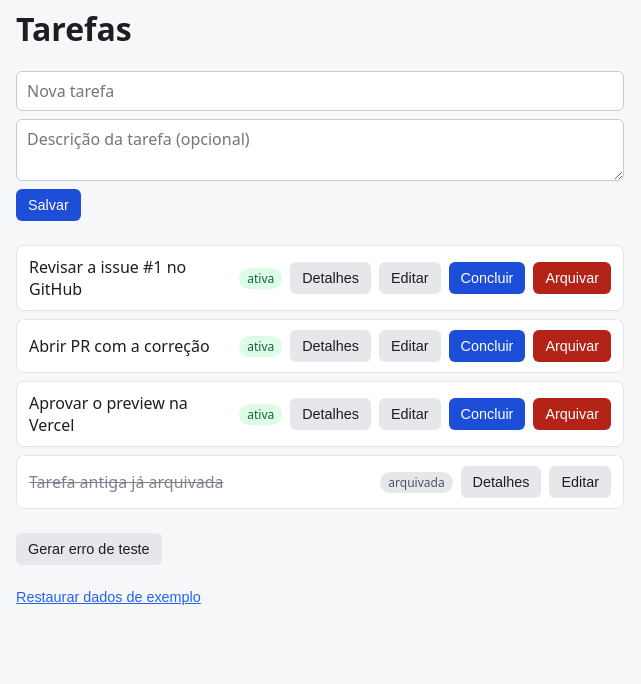
Test: Page › cria uma única tarefa com dois cliques rápidos em Salvar
Type "Tarefa única" into the field named "Título da tarefa" at (320, 91), box left=16, top=71, right=624, bottom=111
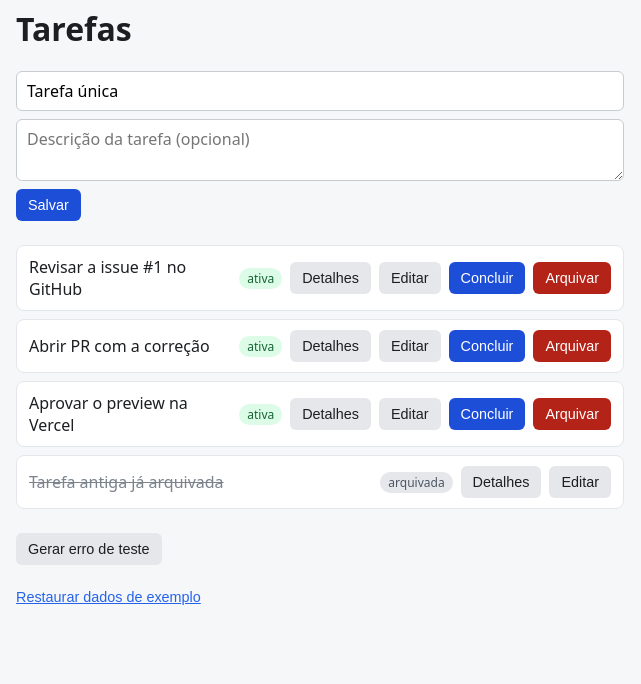
Click the button "Salvar" at (48, 205), box left=16, top=189, right=81, bottom=221
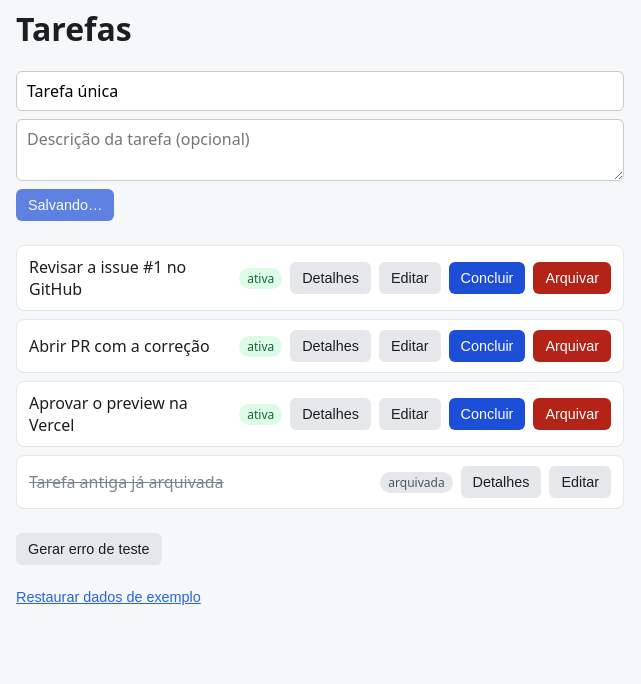
Click the button named "Salvar" at (65, 205), box left=16, top=189, right=114, bottom=221
Wait 1000 ms
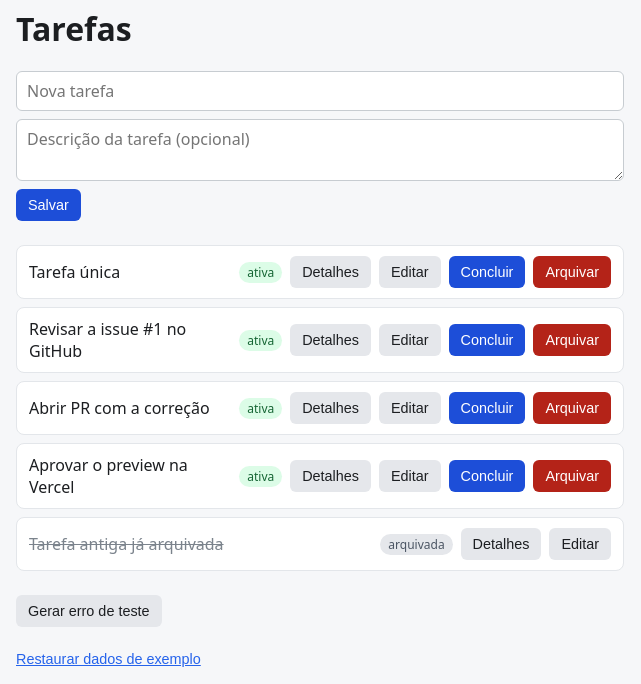
Expected: the text "Tarefa única" is shown once, left=29, top=261, right=120, bottom=283
Expected: the number of list items is 5, left=16, top=245, right=624, bottom=299; left=16, top=307, right=624, bottom=373; left=16, top=381, right=624, bottom=435; left=16, top=443, right=624, bottom=509; left=16, top=517, right=624, bottom=571
